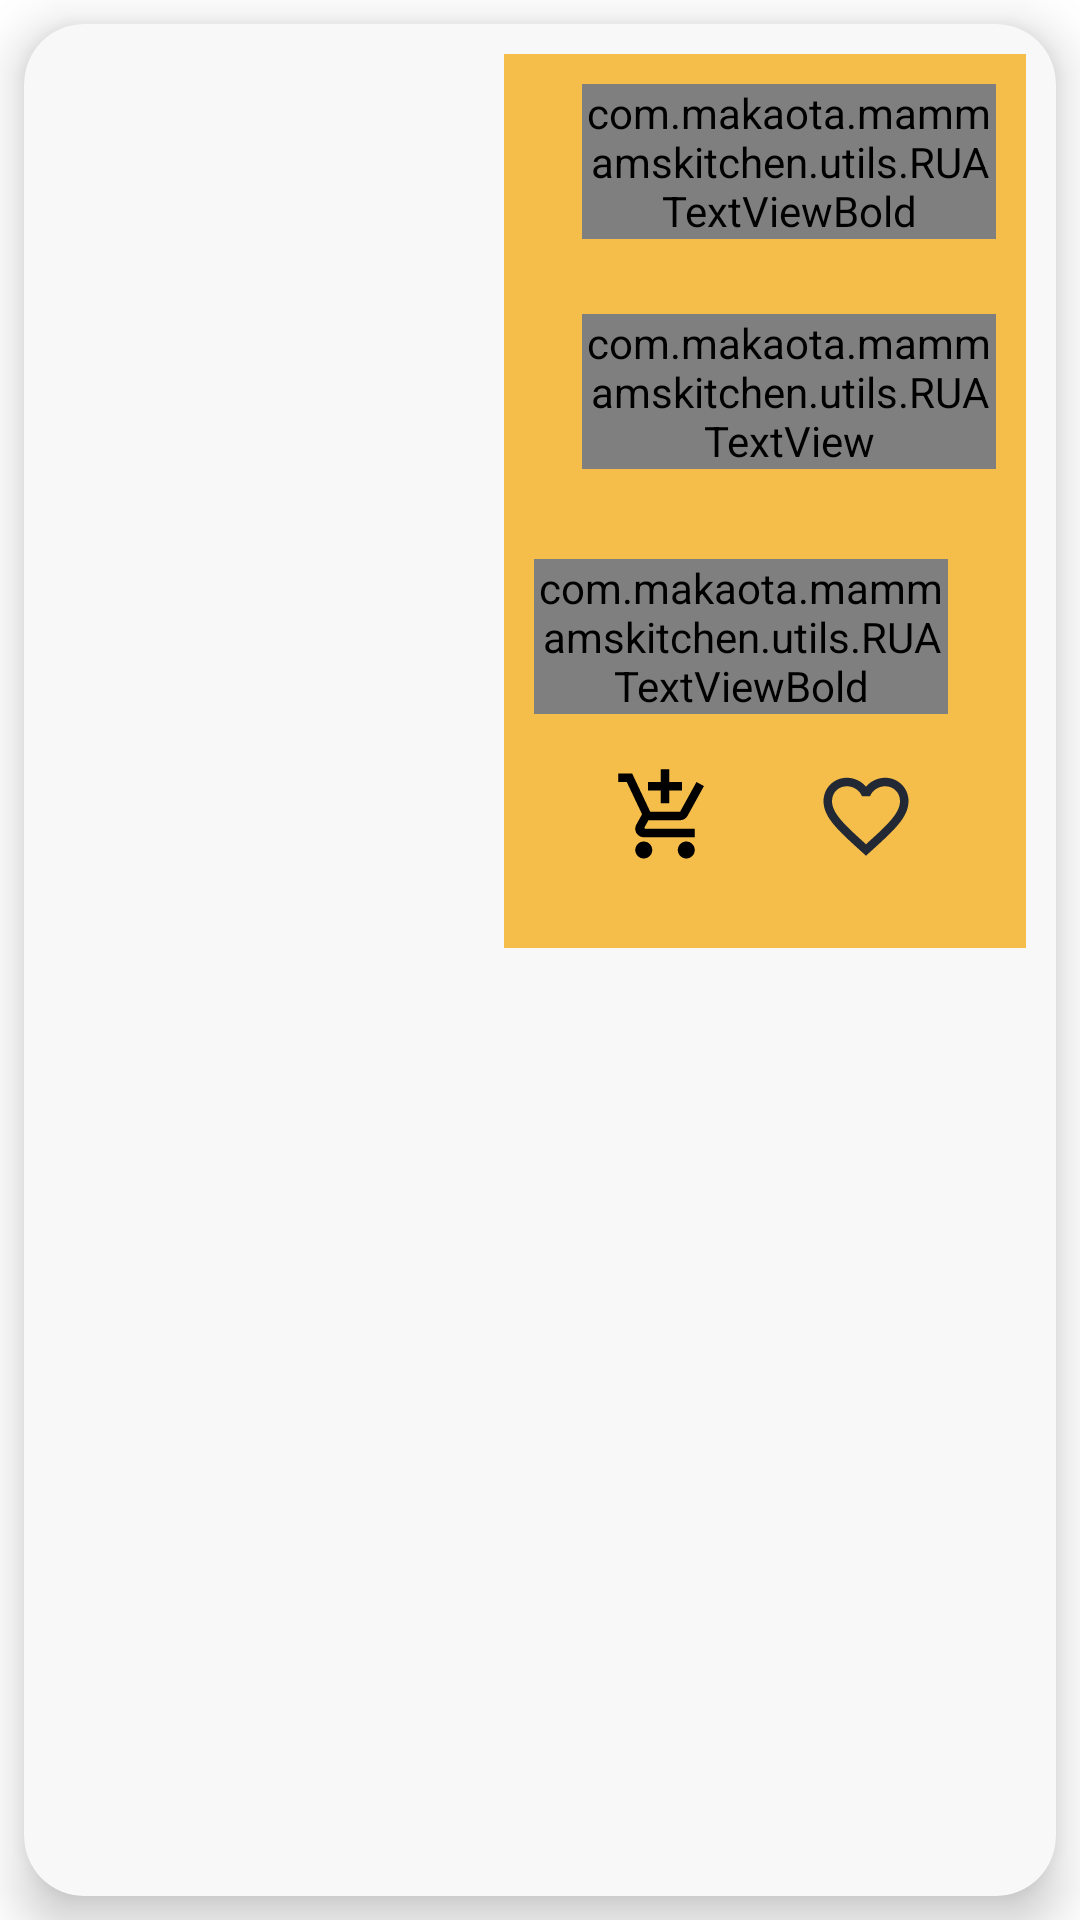

Icon click points for this 1080×1920 phone screenshot, format (x=x, y=y):
Add To Cart: (x=661, y=814)
Add To Favorites: (x=866, y=816)
